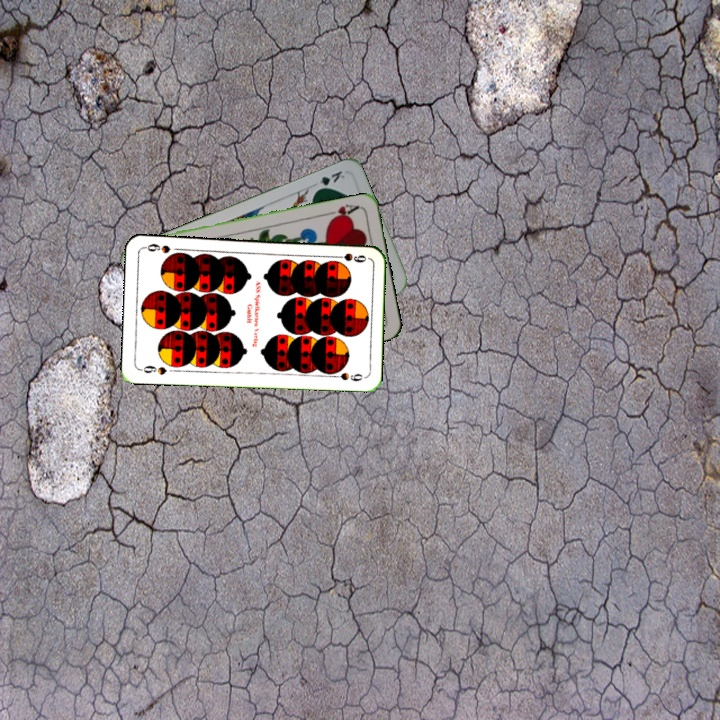GK: (311, 166, 347, 194)
HA: (322, 200, 362, 223)
S9: (329, 249, 369, 265), (136, 361, 169, 378)
